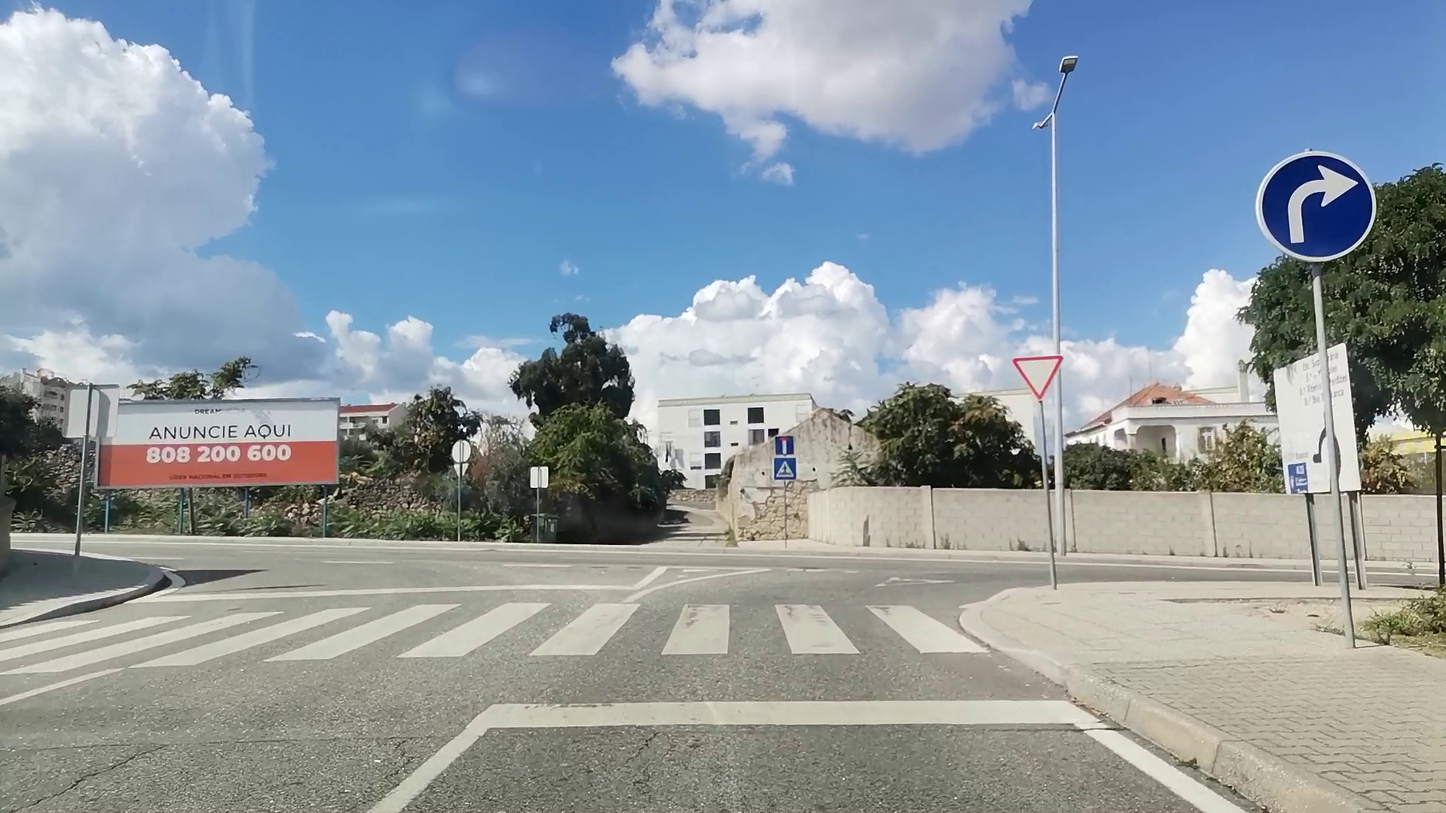Stairs: (0, 598, 992, 674)
